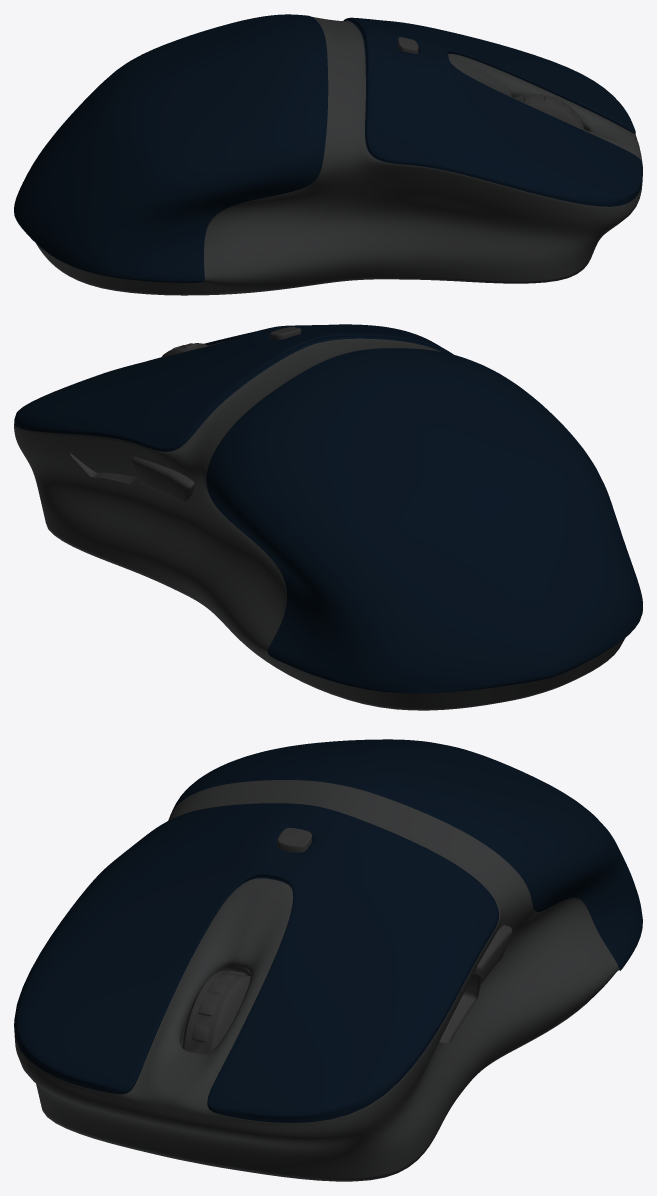
Rendered from mouse3.fbx.
3 renders of one model, top to bottom at view 1: azimuth 30°, elevation 25°; view 2: azimuth 150°, elevation 25°; view 3: azimuth 270°, elevation 25°, orthographic. The views are drawn at different scales.
Visible parts, largest first — view 1: mouse1, mouse_wheel.001; view 2: mouse1, mouse_side_button1; view 3: mouse1, mouse_wheel.001, mouse_side_button2, mouse_side_button1.
Part boxes in pixels (<box>): mouse1: <box>14,14,642,295</box>; mouse_wheel.001: <box>514,93,583,129</box>; mouse1: <box>14,324,642,710</box>; mouse_side_button1: <box>132,456,194,502</box>; mouse1: <box>14,739,642,1181</box>; mouse_wheel.001: <box>182,970,250,1053</box>; mouse_side_button2: <box>439,973,481,1043</box>; mouse_side_button1: <box>474,925,512,983</box>.
Bounding box in the file's own units: 16.29 × 5.5 × 12.75.
